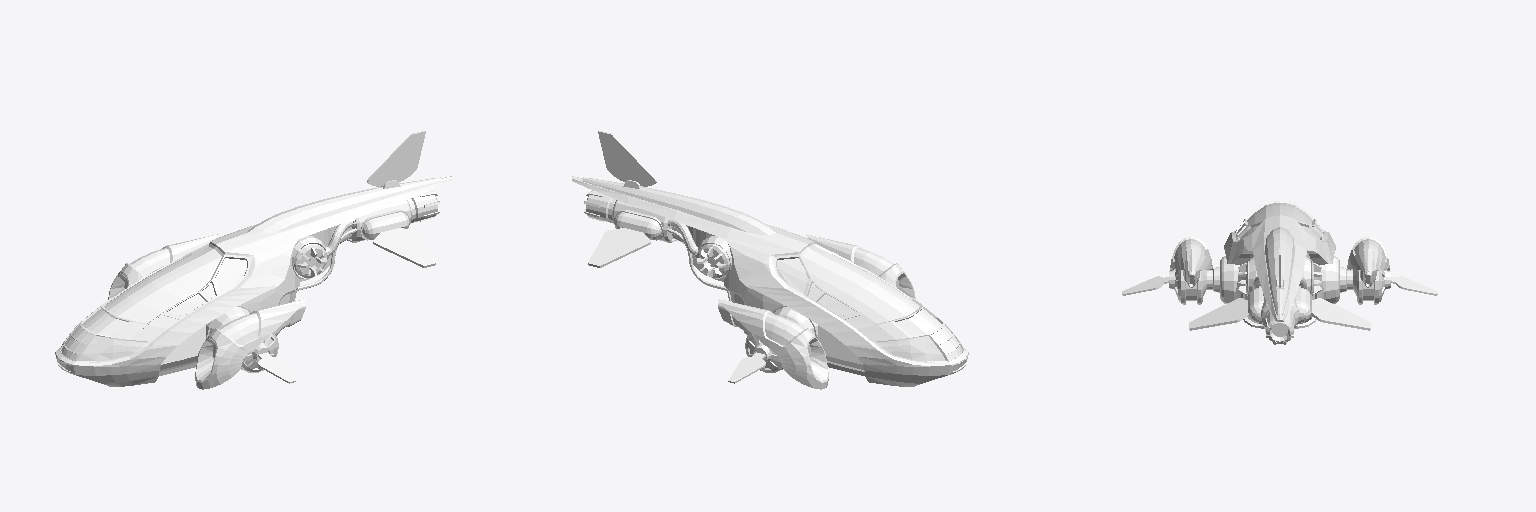
The model's file is ship_2.obj.
3 views of the same model, side by side, from view 1: azimuth 30°, elevation 25°; view 2: azimuth 150°, elevation 25°; view 3: azimuth 270°, elevation 25° (orthographic).
Visible parts, largest first — view 1: Ship_Type_3_Sphere.005; view 2: Ship_Type_3_Sphere.005; view 3: Ship_Type_3_Sphere.005.
Part boxes in pixels (bbox=[...]): Ship_Type_3_Sphere.005: bbox=[55, 131, 451, 389]; Ship_Type_3_Sphere.005: bbox=[572, 131, 968, 389]; Ship_Type_3_Sphere.005: bbox=[1122, 201, 1437, 344].
Size of the model in its own units: 0.8613 by 0.3519 by 0.5999.